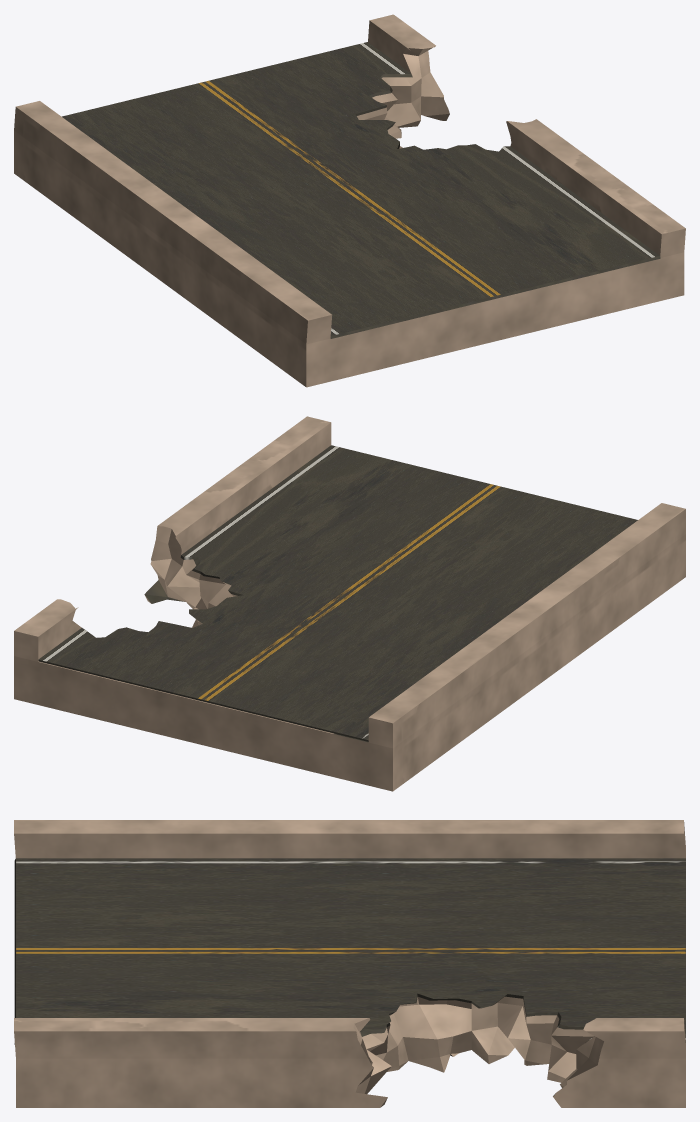
Rendered from Road_Tile_Broken_Right.fbx.
3 renders of one model, top to bottom at view 1: azimuth 30°, elevation 25°; view 2: azimuth 150°, elevation 25°; view 3: azimuth 270°, elevation 25°, orthographic. The views are drawn at different scales.
Parts seen in each view (by area): view 1: Road.003, Road_Tile_Broken_Side; view 2: Road.003, Road_Tile_Broken_Side; view 3: Road.003, Road_Tile_Broken_Side.
Part boxes in pixels (box(x1,y1,x2,y2)): Road.003: box(62, 42, 660, 338); Road_Tile_Broken_Side: box(14, 14, 685, 387); Road.003: box(38, 445, 637, 741); Road_Tile_Broken_Side: box(14, 416, 685, 791); Road.003: box(14, 858, 685, 1044); Road_Tile_Broken_Side: box(14, 820, 685, 1107).
Size of the model in its own units: 394 by 66.87 by 528.
Materials: 1 (1 with a texture image).
